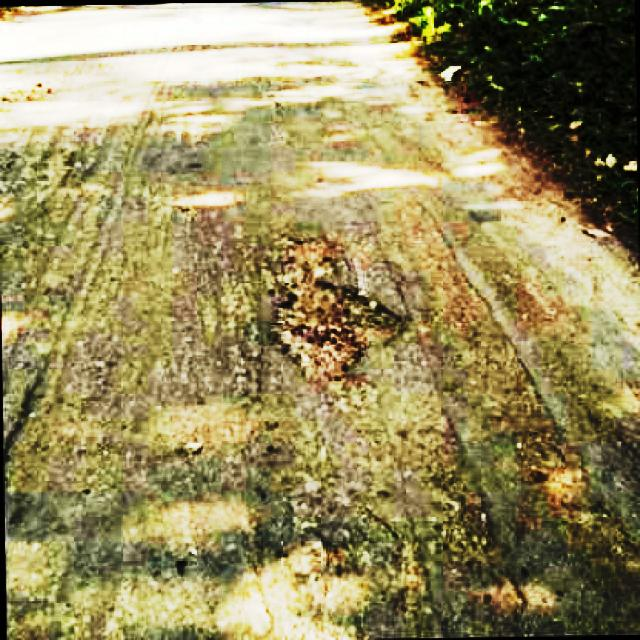pothole: (268, 224, 408, 378), (518, 420, 640, 591), (438, 468, 494, 566)
